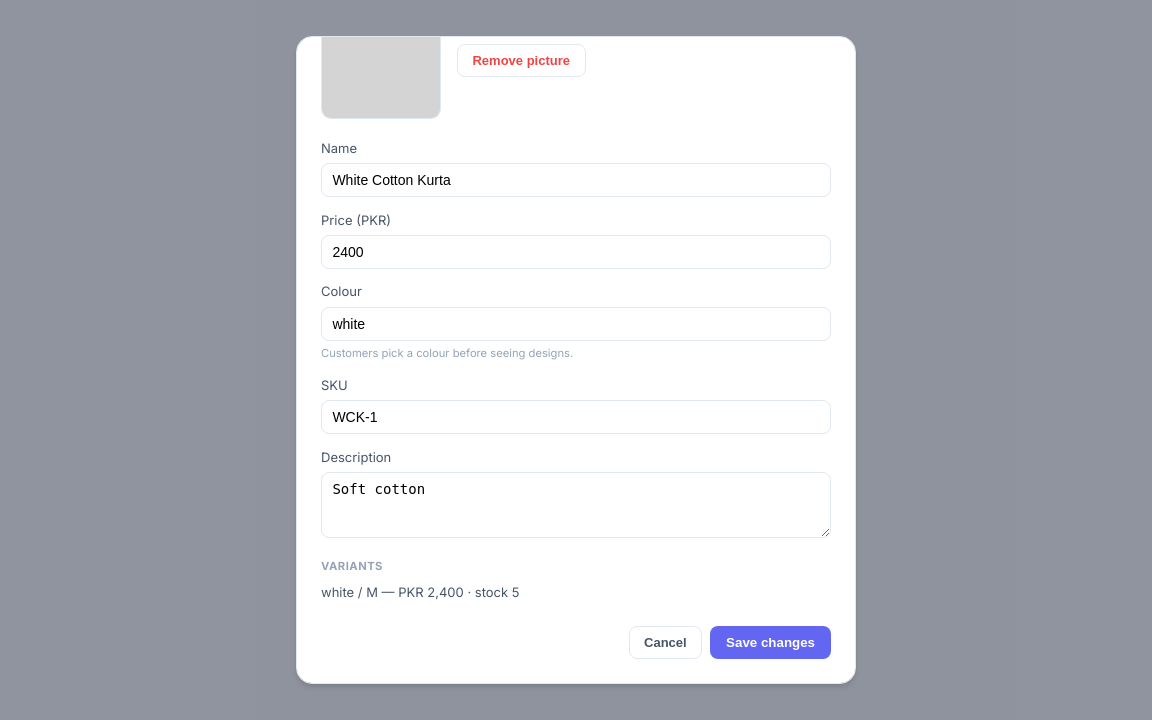
EditProductModal › surfaces the API's reason when a save is rejected and stays open
(page scrolled)
Click the button "Save changes" at (771, 643), box [710,626,831,659]
(page scrolled)
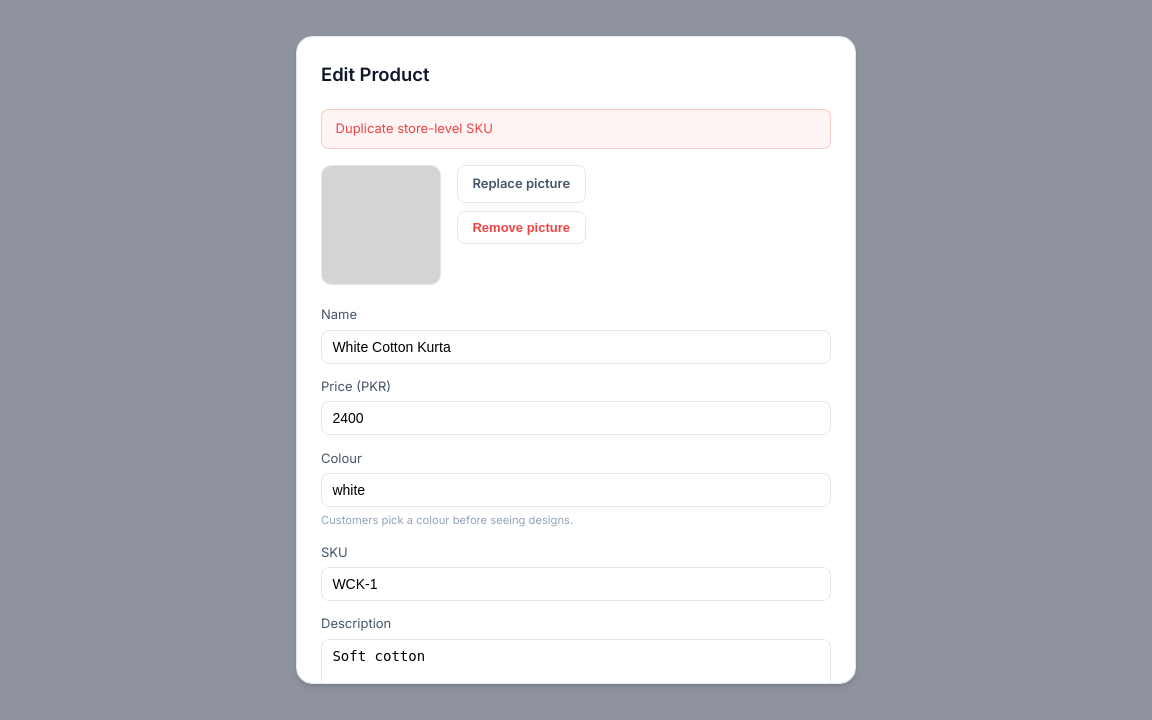
Expected: the message reads "Duplicate store-level SKU", [336,120,493,136]
